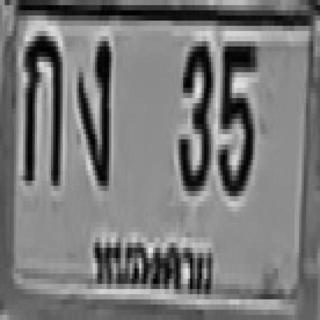A01: (23, 31, 60, 181)
A07: (76, 36, 109, 186)
N03: (176, 36, 211, 191)
N05: (215, 36, 255, 191)
P36: (86, 231, 221, 304)
